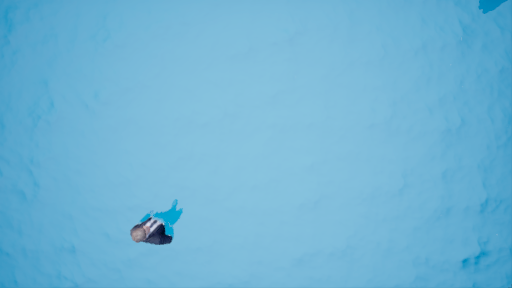person: (126, 195, 189, 251)
